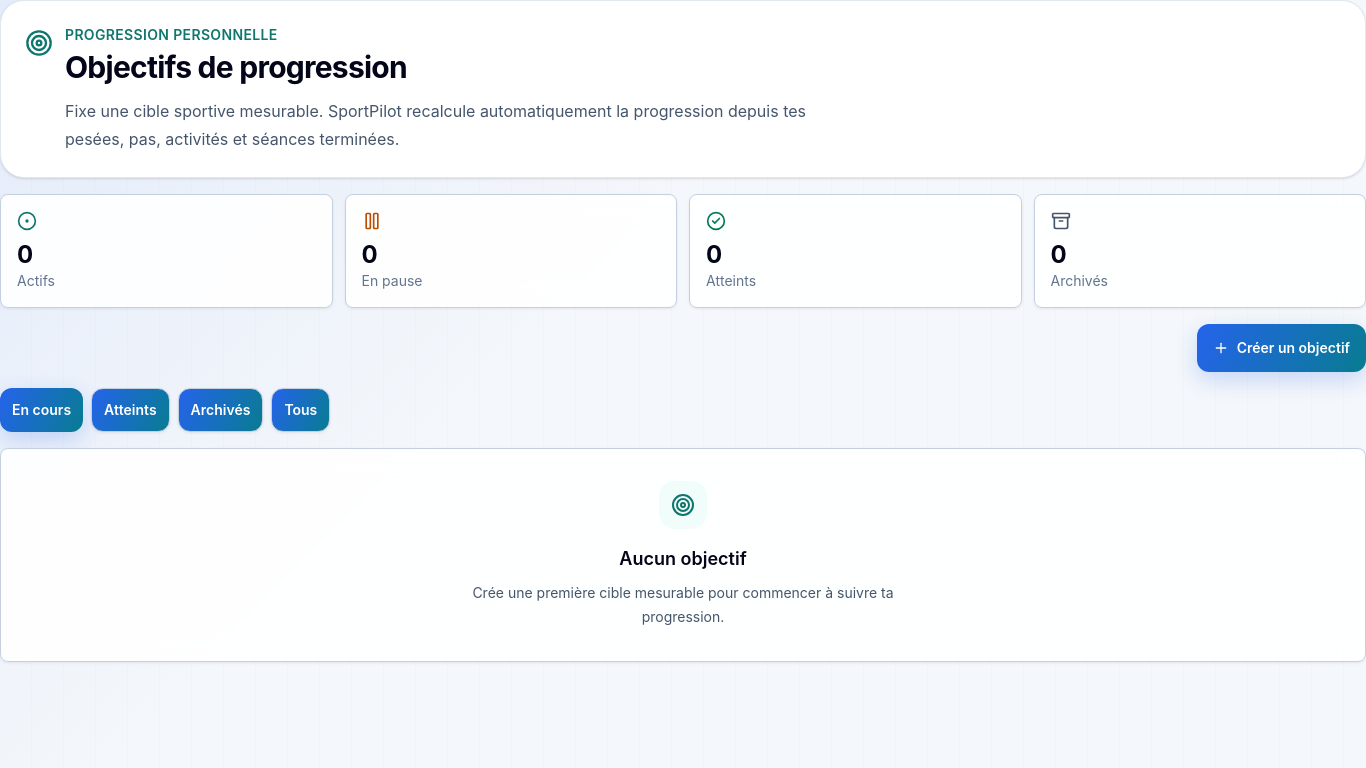
Test: GoalsPage › préremplit la création d’un objectif de poids avec la dernière pesée
Click the button "Créer un objectif". click: (1281, 348)
box: [1197, 324, 1365, 372]
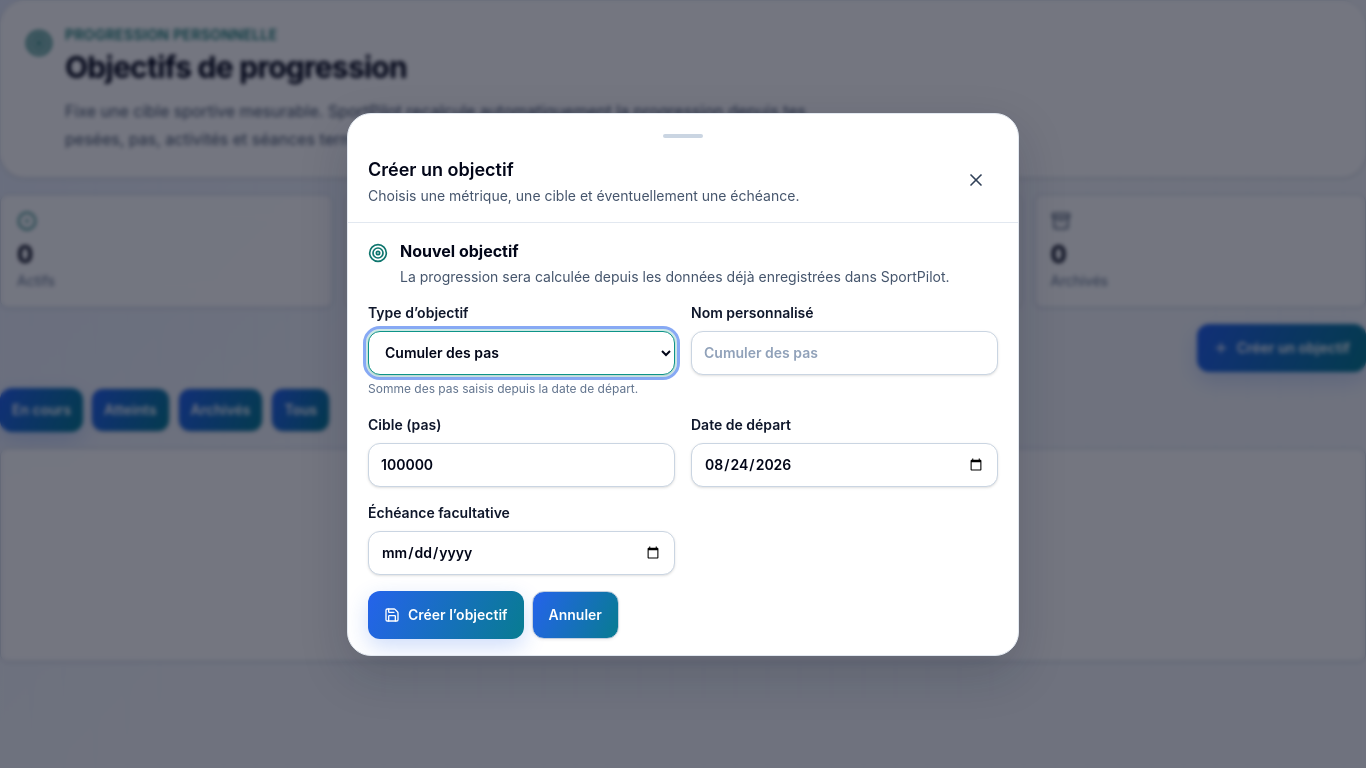
Select "Atteindre un poids" in the dropdown labelled "Type d’objectif". click: (522, 352)
box: [368, 330, 675, 374]
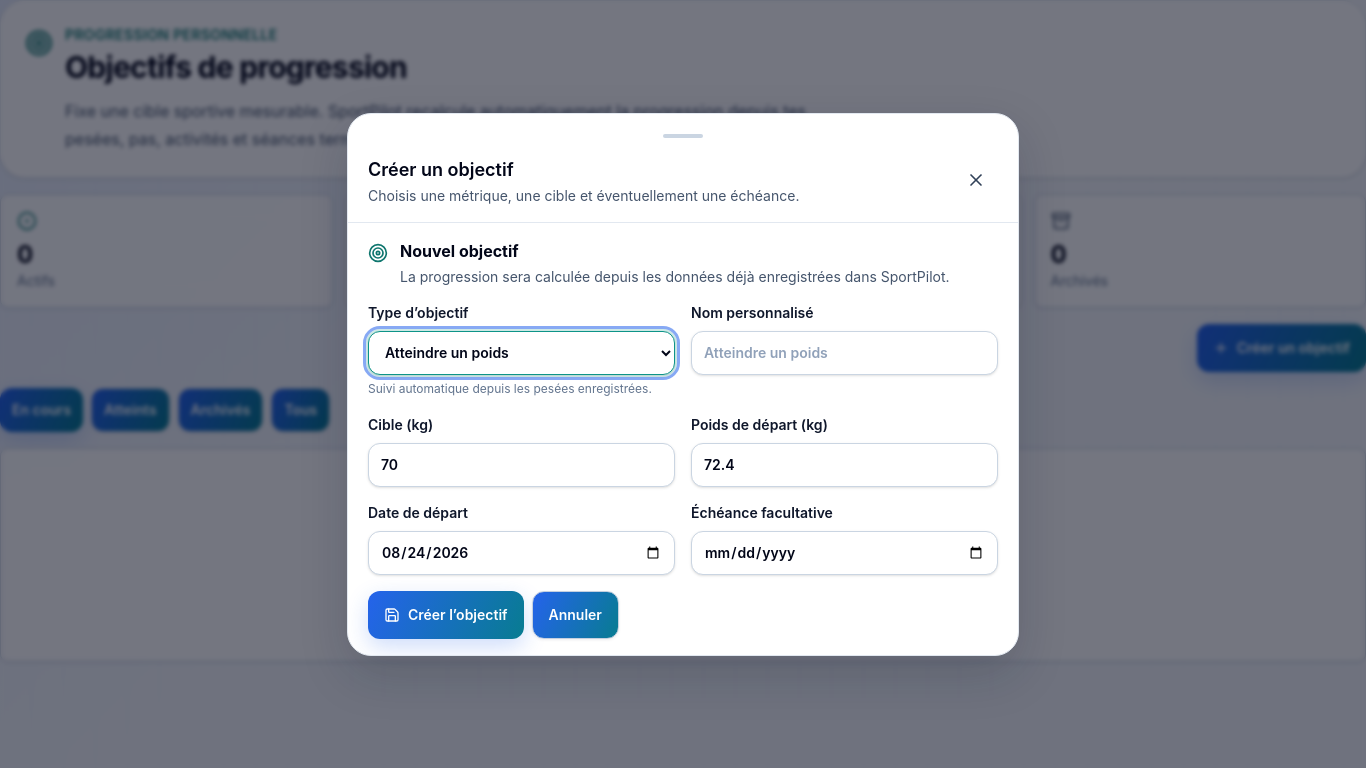
Expected: the number field labelled "Poids de départ (kg)" holds "72.4", [691, 442, 998, 486]
